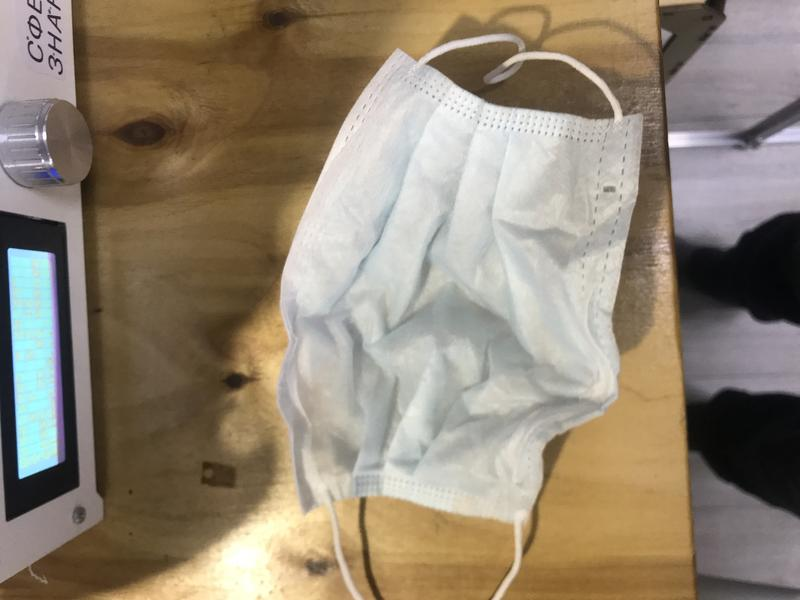medical_mask: (275, 32, 625, 600)
